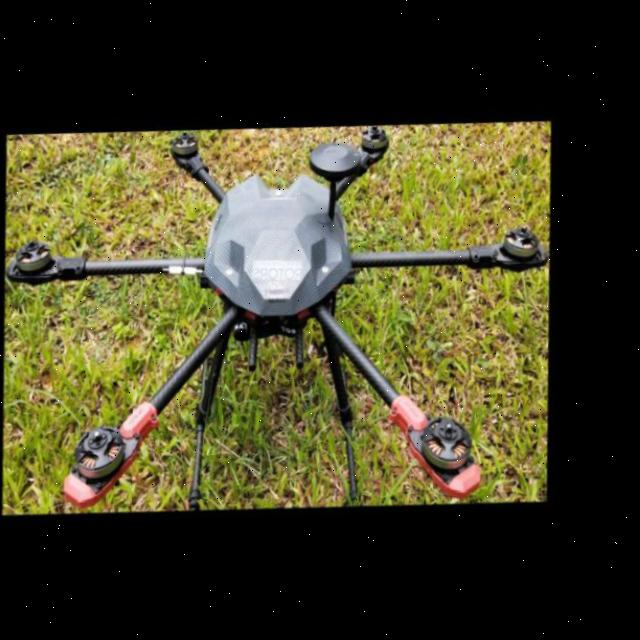drones: (0, 68, 585, 554)
